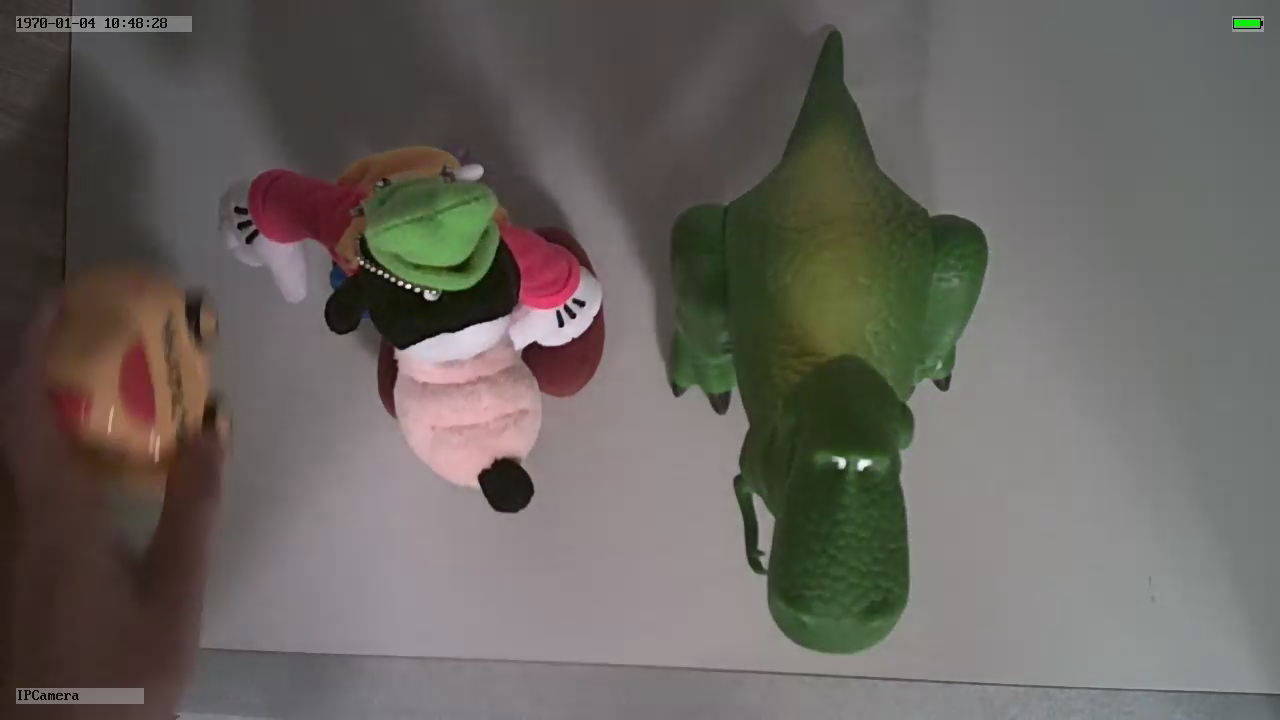goofy: (222, 142, 612, 522)
